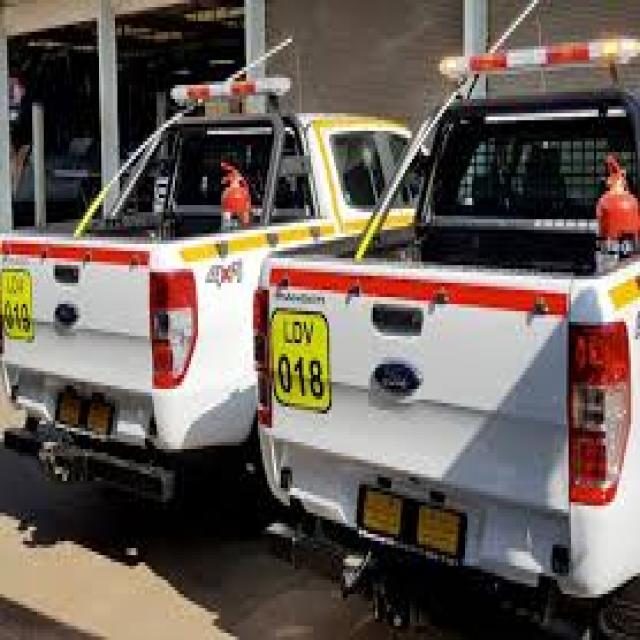light_vehicle: (12, 85, 638, 605)
